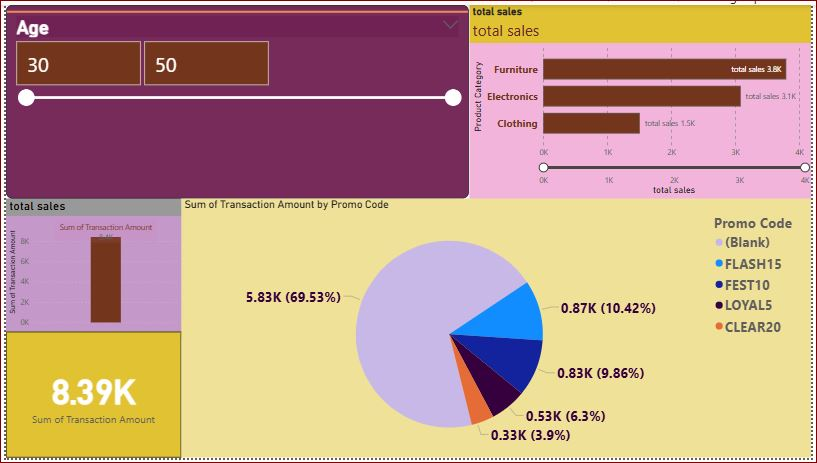

The dashboard page shown, as its layout file describes it:
{"tool":"powerbi","page":{"name":"main dashboard","canvas":[1280,720],"ordinal":0},"visuals":[{"type":"clusteredColumnChart","title":"total sales","fields":{"Y":["Sum(customer transaction data.Transaction Amount)"]},"box":[0,307.1,278.6,211.9],"z":0},{"type":"card","fields":{"Values":["Sum(customer transaction data.Transaction Amount)"]},"box":[0,519,278.6,200],"z":1},{"type":"clusteredBarChart","title":"total sales","fields":{"Category":["customer transaction data.Product Category"],"Y":["Sum(customer transaction data.Transaction Amount)"]},"box":[735.7,0,545.2,307.1],"z":2},{"type":"slicer","fields":{"Values":["customer segmentation.Age"]},"box":[0,0,735.7,307.1],"z":3},{"type":"pieChart","fields":{"Category":["promotions.Promo Code"],"Y":["Sum(customer transaction data.Transaction Amount)"]},"box":[278.6,307.1,1002.4,411.9],"z":5}]}

Visuals, with their boxes in screenshot pixels (x1, y1, x2, y2), scaled from the page's 1280x720 canvas onto the 817x463 screenshot:
"total sales" clusteredColumnChart: region(0, 197, 178, 334)
card - Sum(customer transaction data.Transaction Amount): region(0, 334, 178, 462)
"total sales" clusteredBarChart: region(470, 0, 816, 197)
slicer - customer segmentation.Age: region(0, 0, 470, 197)
pieChart - promotions.Promo Code x Sum(customer transaction data.Transaction Amount): region(178, 197, 816, 462)
